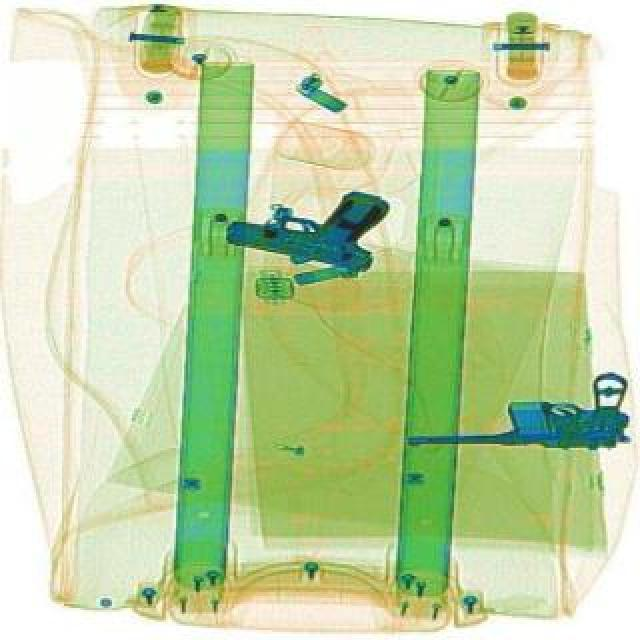gun: (224, 168, 396, 276), (410, 372, 636, 454)
